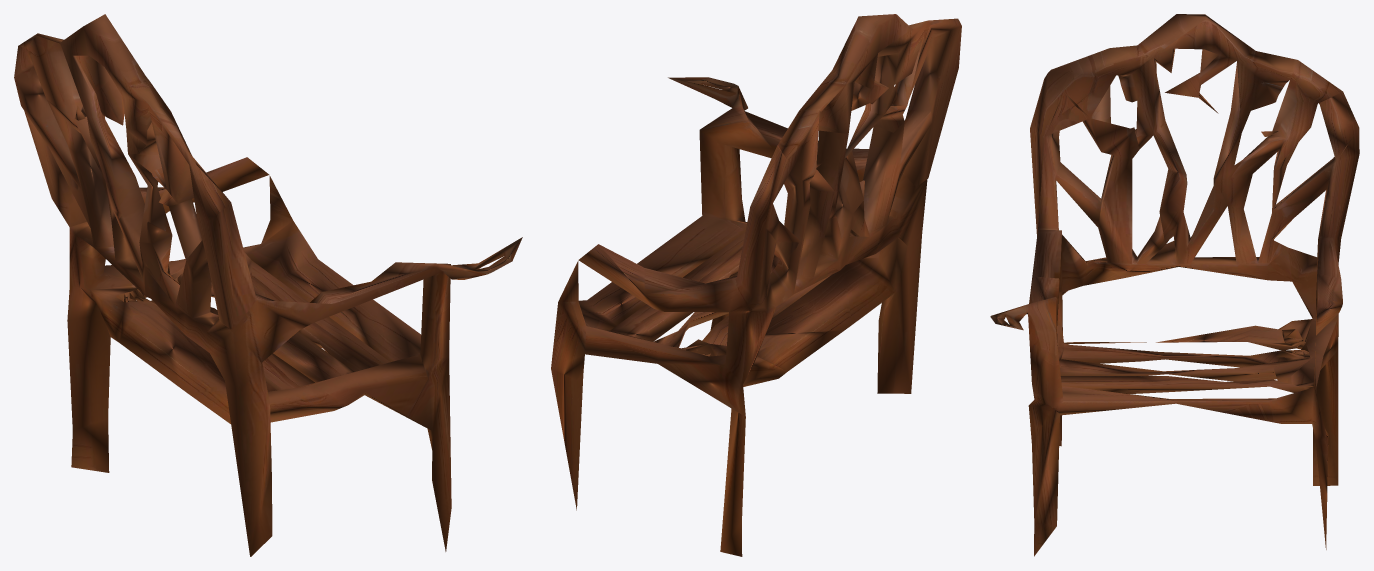
File: chair_ornate.glb
3 renders of one model, left to right at view 1: azimuth 30°, elevation 25°; view 2: azimuth 150°, elevation 25°; view 3: azimuth 270°, elevation 25°, orthographic. The views are drawn at different scales.
Parts seen in each view (by area): view 1: tripo_node_b16e07c7-511d-4c14-b574-b2a0a3f8763d; view 2: tripo_node_b16e07c7-511d-4c14-b574-b2a0a3f8763d; view 3: tripo_node_b16e07c7-511d-4c14-b574-b2a0a3f8763d.
Boxes of the visible parts, <box> form: tripo_node_b16e07c7-511d-4c14-b574-b2a0a3f8763d: <box>14,14,522,556</box>; tripo_node_b16e07c7-511d-4c14-b574-b2a0a3f8763d: <box>551,14,961,556</box>; tripo_node_b16e07c7-511d-4c14-b574-b2a0a3f8763d: <box>990,14,1359,556</box>.
Size of the model in its own units: 0.6645 by 0.9985 by 0.7584.
Materials: 1 (1 with a texture image).
